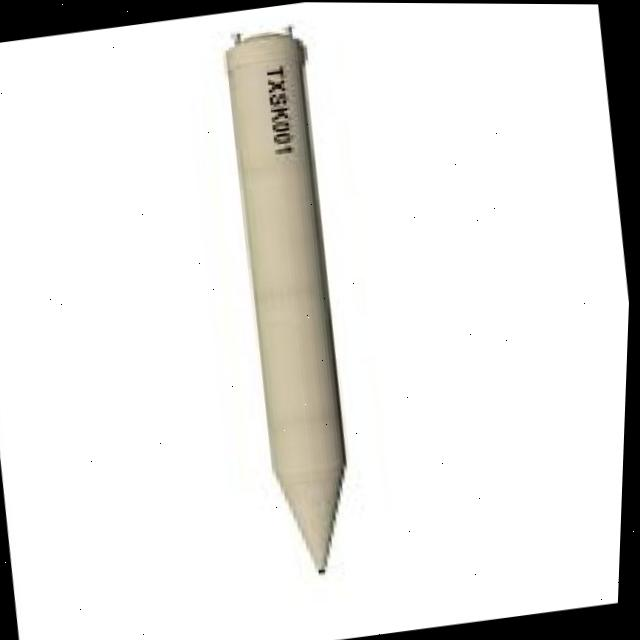missile: (203, 14, 405, 601)
